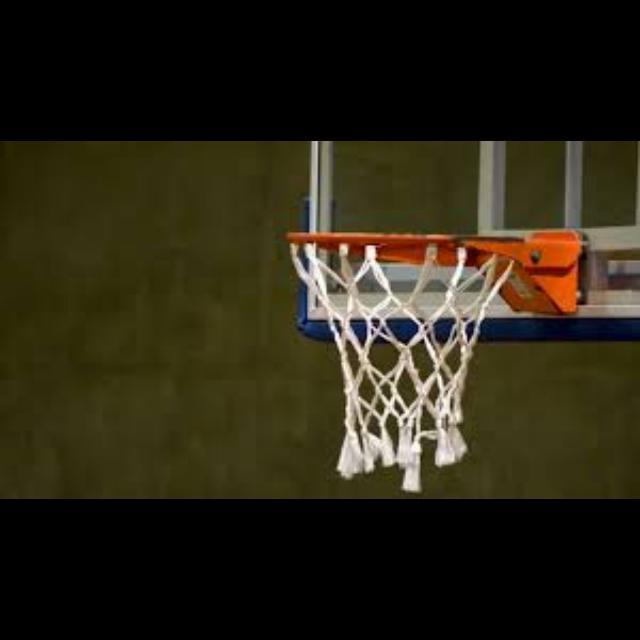rim: (286, 233, 518, 475)
